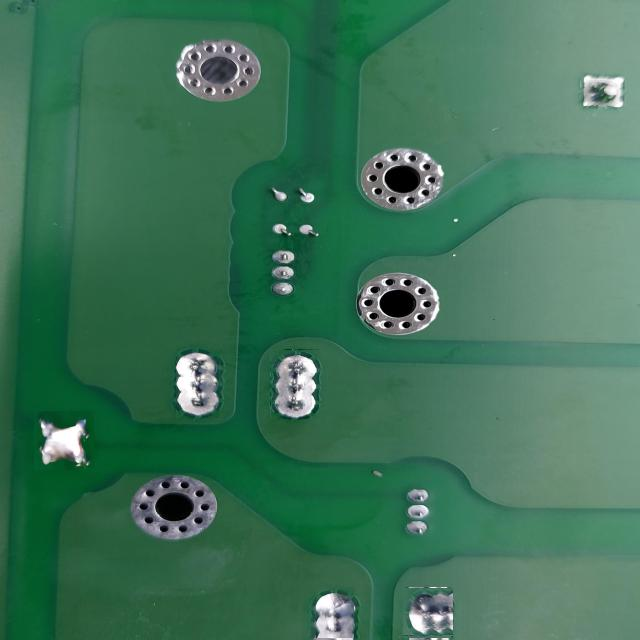Short_circuit: (34, 410, 94, 470), (270, 349, 319, 419), (176, 343, 219, 418), (403, 588, 452, 637), (316, 587, 354, 638)
